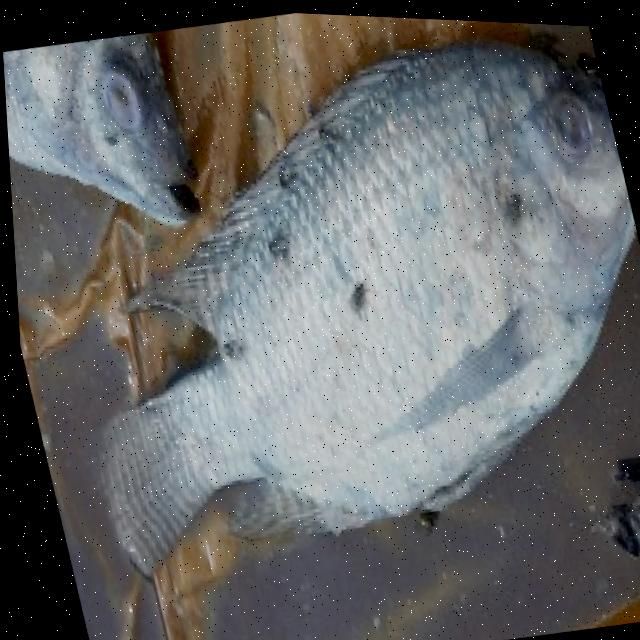Non-Fresh: (188, 104, 585, 469), (517, 69, 613, 169), (78, 38, 163, 147)
